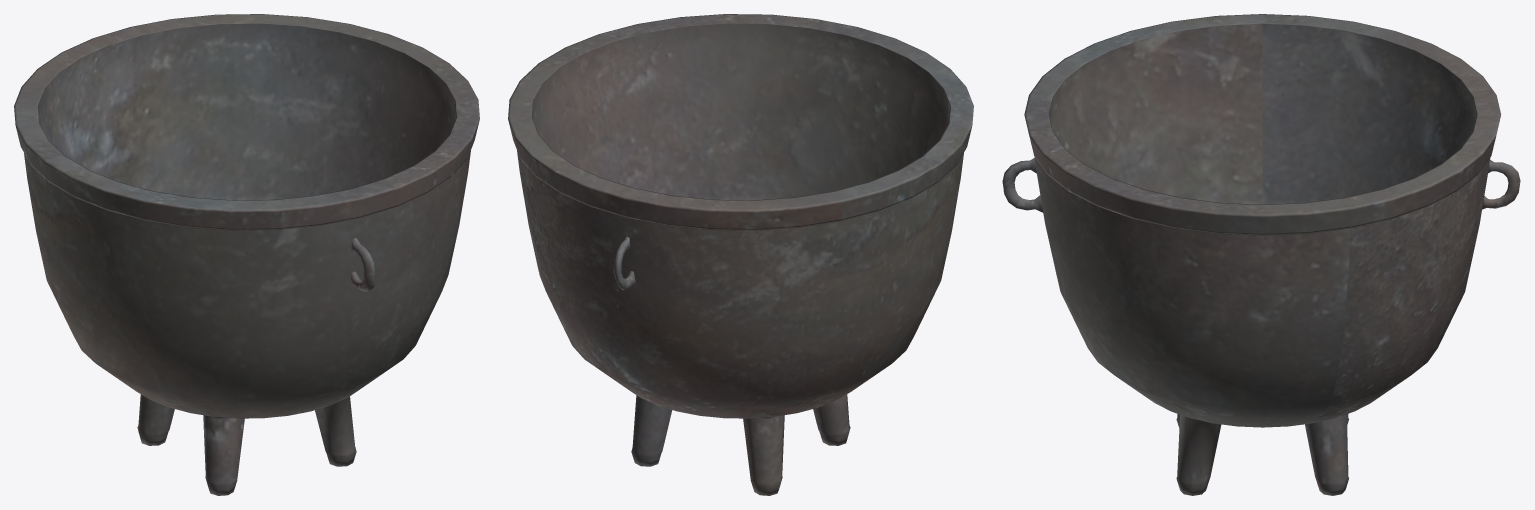
File: SM_Cauldron.fbx
3 views of the same model, side by side, from view 1: azimuth 30°, elevation 25°; view 2: azimuth 150°, elevation 25°; view 3: azimuth 270°, elevation 25° (orthographic). The views are drawn at different scales.
Visible parts, largest first — view 1: SM_Cauldron_LOD0; view 2: SM_Cauldron_LOD0; view 3: SM_Cauldron_LOD0.
Part boxes in pixels (left/top/right/bottom): SM_Cauldron_LOD0: left=14, top=14, right=479, bottom=495; SM_Cauldron_LOD0: left=508, top=14, right=973, bottom=495; SM_Cauldron_LOD0: left=1002, top=14, right=1520, bottom=495.
Size of the model in its own units: 67.81 by 73.67 by 54.34.
